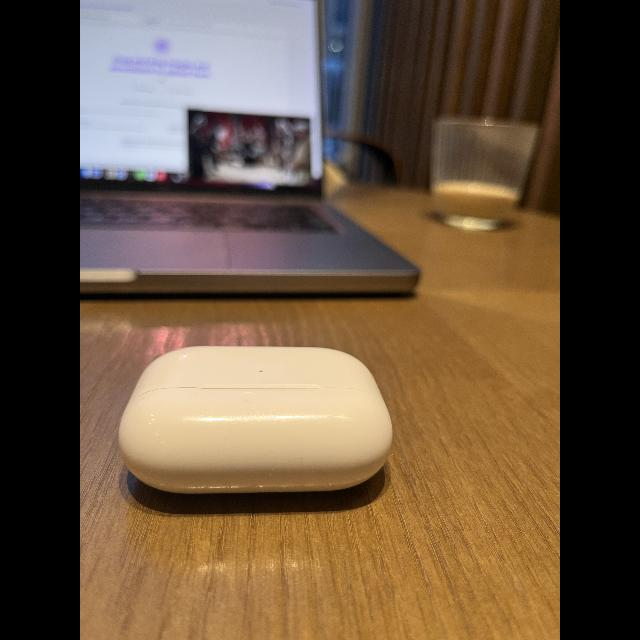AirPods Pro: (112, 334, 406, 520)
